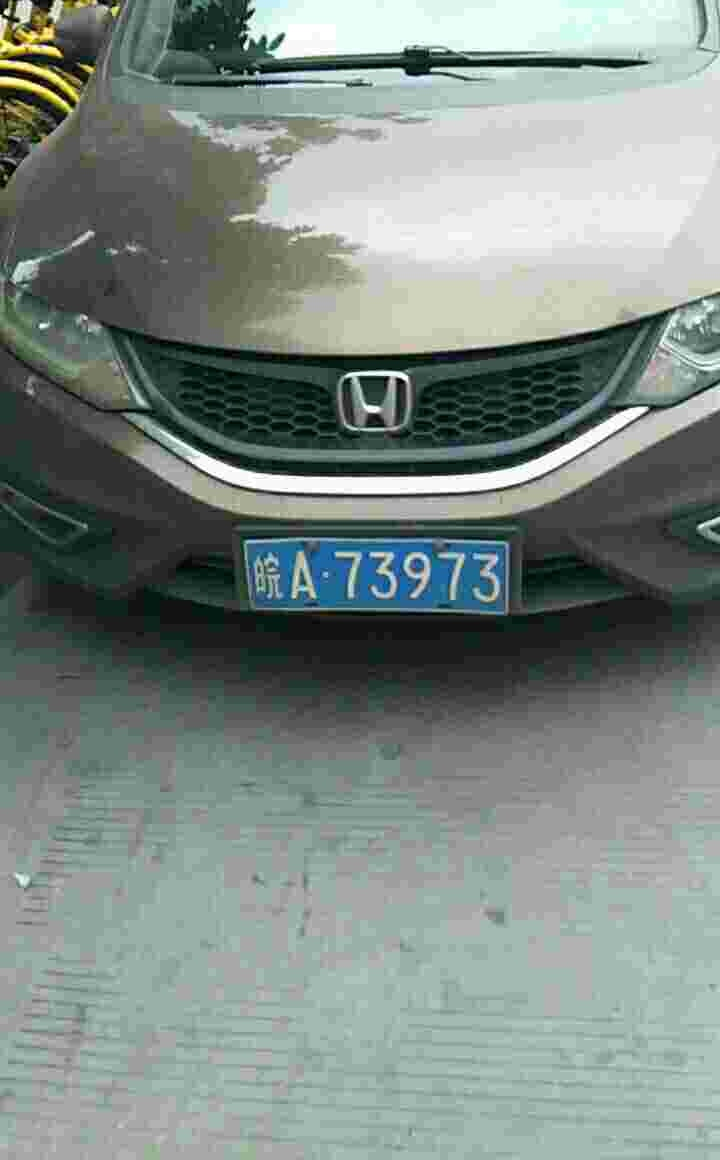license_plate: (241, 538, 519, 607)
